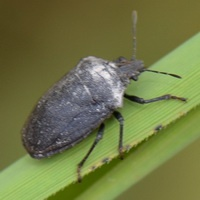insect: (22, 10, 185, 181)
